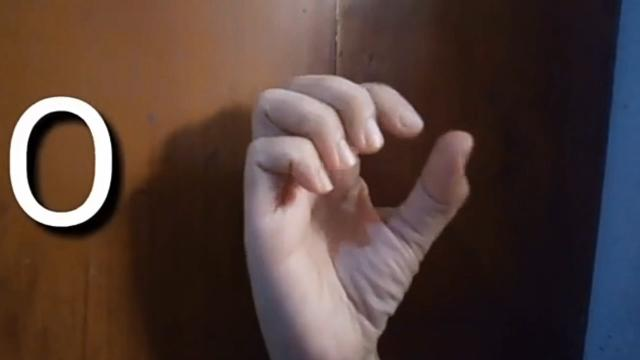O: (235, 74, 477, 360)
